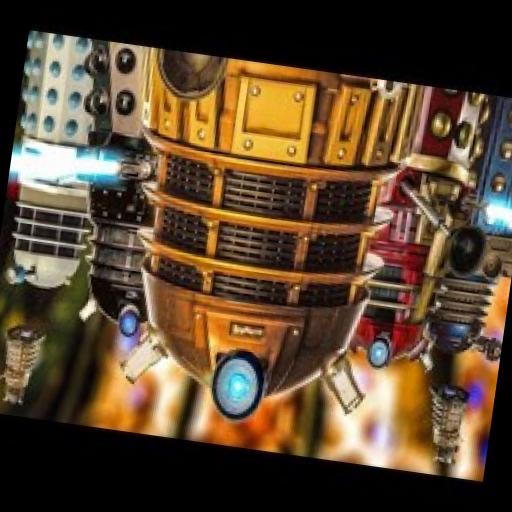dalek: (87, 42, 426, 436), (334, 78, 498, 380), (50, 38, 184, 339), (0, 30, 104, 302), (424, 91, 512, 362), (0, 310, 53, 409), (420, 382, 476, 468)
